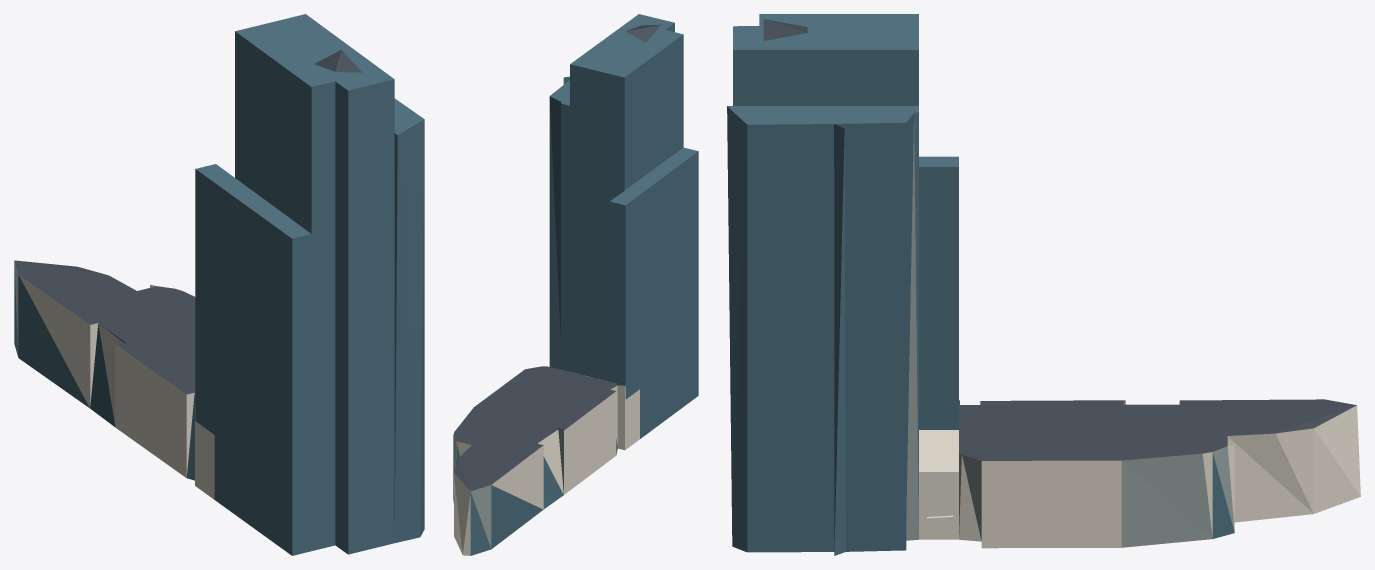
The model's file is breitner-tower.lod2.glb.
The picture shows the model from 3 angles, left to right: view 1: azimuth 30°, elevation 25°; view 2: azimuth 150°, elevation 25°; view 3: azimuth 270°, elevation 25°; orthographic projection. The views are drawn at different scales.
Parts seen in each view (by area): view 1: lod2; view 2: lod2; view 3: lod2.
Part boxes in pixels (x1,y1,x2,y2): lod2: [14, 14, 424, 555]; lod2: [453, 14, 698, 555]; lod2: [727, 14, 1360, 555].
Bounding box in the file's own units: 28.8 × 95.01 × 111.
